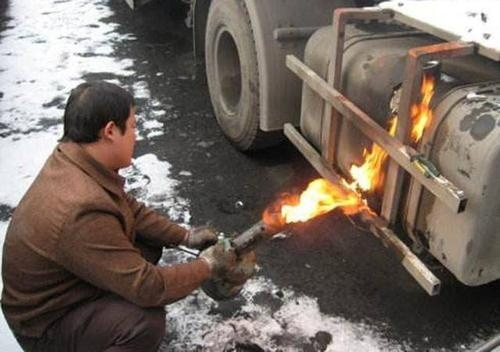fire: (276, 139, 391, 223), (410, 74, 436, 141)
